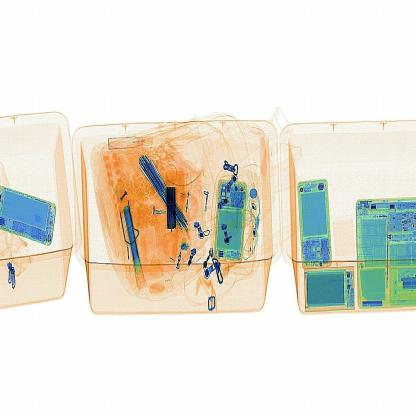scissors: (160, 179, 192, 238)
